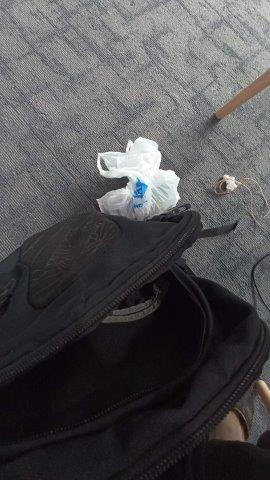plastik: (97, 138, 181, 219)
